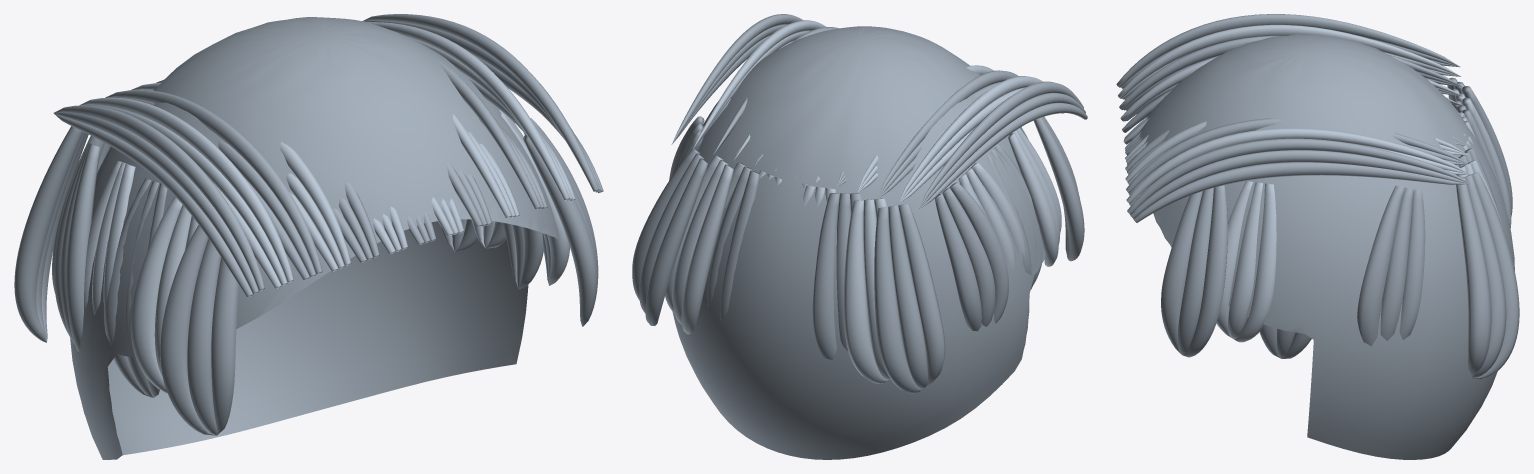
3 views of the same model, side by side, from view 1: azimuth 30°, elevation 25°; view 2: azimuth 150°, elevation 25°; view 3: azimuth 270°, elevation 25° (orthographic). The views are drawn at different scales.
Parts seen in each view (by area): view 1: CrownHair_male_ref09, SideHair_-1_0_Strand2, BackHair_00_Strand0, SideHair_-1_0_Strand1, SideHair_-1_1_Strand2, FrontHair_Slick_01_Strand2, FrontHair_Slick_00_Strand2, FrontHair_Slick_02_Strand2, FrontHair_Slick_12_Strand0, SideHair_-1_0_Strand0, SideHair_-1_4_Strand0, FrontHair_Slick_11_Strand0 (+32 smaller); view 2: CrownHair_male_ref09, BackHair_00_Strand2, BackHair_01_Strand2, BackHair_00_Strand1, BackHair_00_Strand0, BackHair_02_Strand2, BackHair_07_Strand0, BackHair_08_Strand0, SideHair_-1_4_Strand2, SideHair_-1_0_Strand2, SideHair_-1_4_Strand0, SideHair_-1_4_Strand1 (+27 smaller); view 3: CrownHair_male_ref09, BackHair_08_Strand2, FrontHair_Slick_12_Strand2, FrontHair_Slick_12_Strand0, FrontHair_Slick_00_Strand2, FrontHair_Slick_12_Strand1, FrontHair_Slick_11_Strand0, FrontHair_Slick_01_Strand2, SideHair_1_0_Strand0, SideHair_1_4_Strand2, SideHair_1_0_Strand1, SideHair_1_0_Strand2 (+15 smaller).
Boxes of the visible parts, x1,y1,x2,y2 form: CrownHair_male_ref09: (70, 17, 560, 459); SideHair_-1_0_Strand2: (160, 225, 215, 435); BackHair_00_Strand0: (14, 126, 83, 342); SideHair_-1_0_Strand1: (187, 239, 220, 435); SideHair_-1_1_Strand2: (130, 196, 182, 393); FrontHair_Slick_01_Strand2: (80, 97, 293, 282); FrontHair_Slick_00_Strand2: (54, 105, 264, 290); FrontHair_Slick_02_Strand2: (105, 90, 322, 274); FrontHair_Slick_12_Strand0: (362, 14, 599, 191); SideHair_-1_0_Strand0: (211, 257, 238, 435); SideHair_-1_4_Strand0: (66, 144, 100, 351); FrontHair_Slick_11_Strand0: (367, 22, 570, 200); CrownHair_male_ref09: (672, 26, 1045, 459); BackHair_00_Strand2: (874, 207, 921, 393); BackHair_01_Strand2: (843, 200, 887, 383); BackHair_00_Strand1: (888, 205, 927, 388); BackHair_00_Strand0: (898, 203, 945, 385); BackHair_02_Strand2: (812, 193, 839, 360); BackHair_07_Strand0: (681, 164, 733, 334); BackHair_08_Strand0: (645, 158, 707, 325); SideHair_-1_4_Strand2: (934, 193, 981, 331); SideHair_-1_0_Strand2: (1033, 117, 1084, 261); SideHair_-1_4_Strand0: (949, 182, 1009, 323); SideHair_-1_4_Strand1: (942, 188, 995, 326); CrownHair_male_ref09: (1137, 34, 1514, 459); BackHair_08_Strand2: (1456, 177, 1491, 377); FrontHair_Slick_12_Strand2: (1133, 162, 1469, 222); FrontHair_Slick_12_Strand0: (1127, 138, 1469, 214); FrontHair_Slick_00_Strand2: (1116, 14, 1459, 87); FrontHair_Slick_12_Strand1: (1130, 150, 1469, 218); FrontHair_Slick_11_Strand0: (1126, 128, 1468, 203); FrontHair_Slick_01_Strand2: (1118, 24, 1460, 98); SideHair_1_0_Strand0: (1182, 185, 1227, 357); SideHair_1_4_Strand2: (1357, 185, 1404, 346); SideHair_1_0_Strand1: (1178, 188, 1213, 354); SideHair_1_0_Strand2: (1161, 191, 1202, 354).
Bounding box in the file's own units: 0.7248 × 0.7341 × 0.7034.
